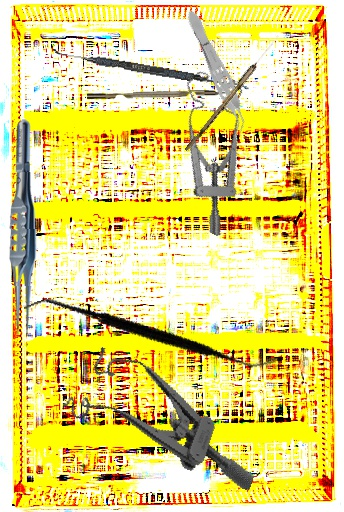Chopper: (86, 83, 237, 100)
Spatula Surgical: (23, 243, 275, 426), (51, 49, 230, 87)
Speculum: (56, 341, 278, 491), (136, 63, 280, 238)
Surgical Spoon: (184, 33, 281, 154)
Tissue Forceps: (179, 5, 256, 141), (6, 119, 39, 339)
